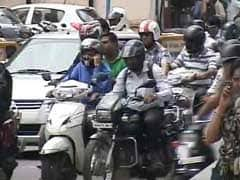helmet: (120, 39, 147, 73), (181, 25, 206, 56), (79, 39, 104, 67), (137, 19, 161, 48)
